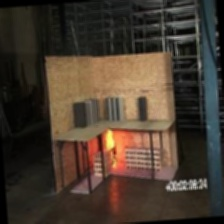fire: (100, 125, 122, 155)
